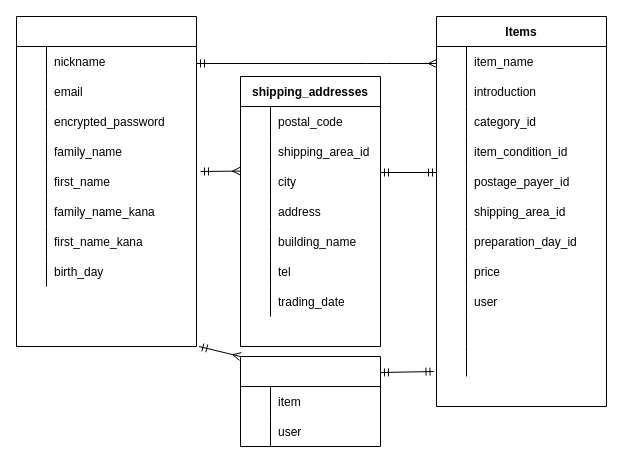
Some shapes in this 623 by 463 pixel diagram are drawn without their labels. The shapes that lost their labels are listed below. From the top down, each one's box as (x1, y1, x2, y2) in pixels, then its label:
(16, 16, 196, 346): Users
(240, 356, 380, 446): trading_dates
